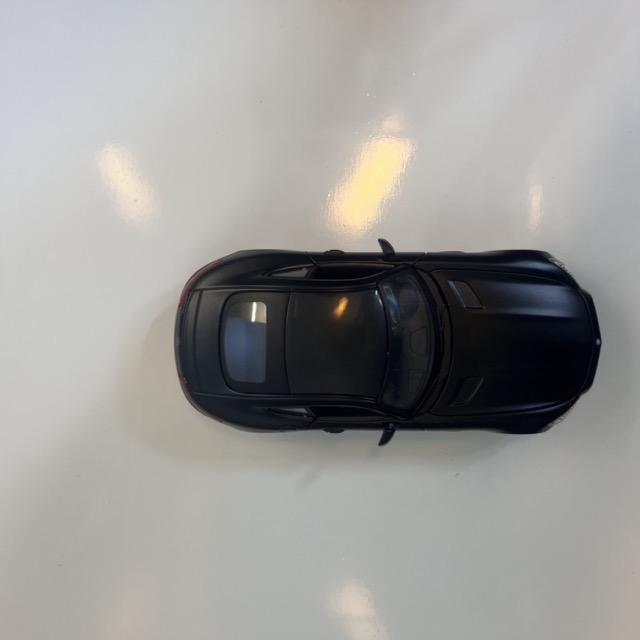car: (173, 238, 602, 448)
